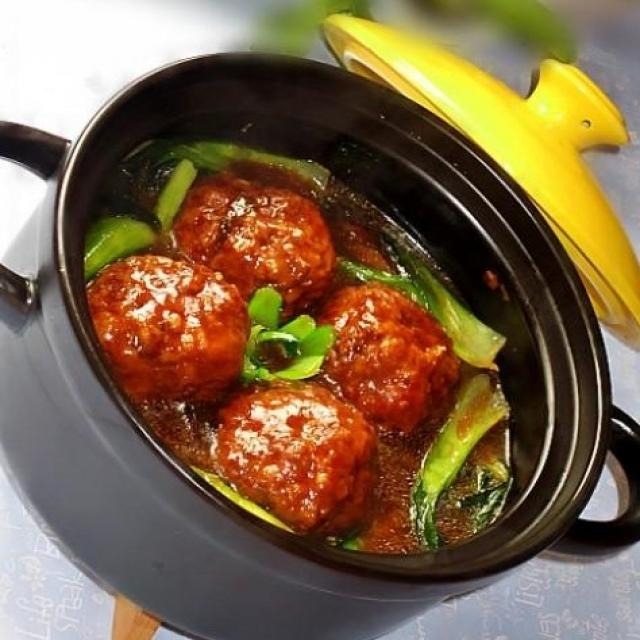Meatball: (210, 374, 388, 528), (156, 172, 348, 310), (79, 250, 252, 398), (313, 271, 463, 436)
